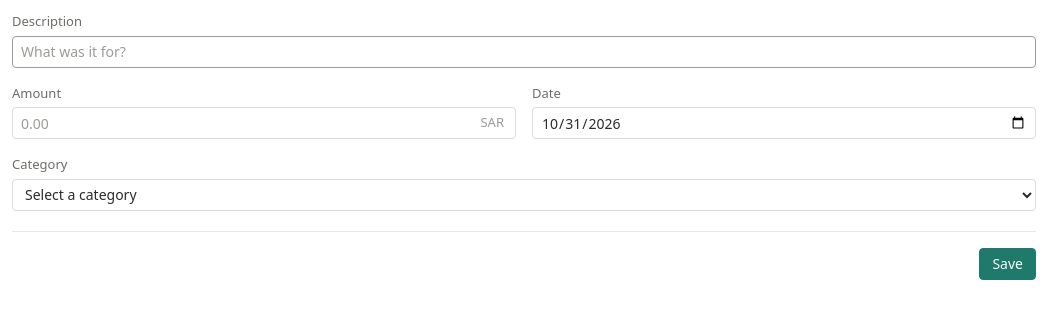
it: ExpenseForm validation › rejects more than two decimals
Select "Food" in the dropdown labelled "Category" at (524,194), box x1=12 y1=178 x2=1036 y2=210
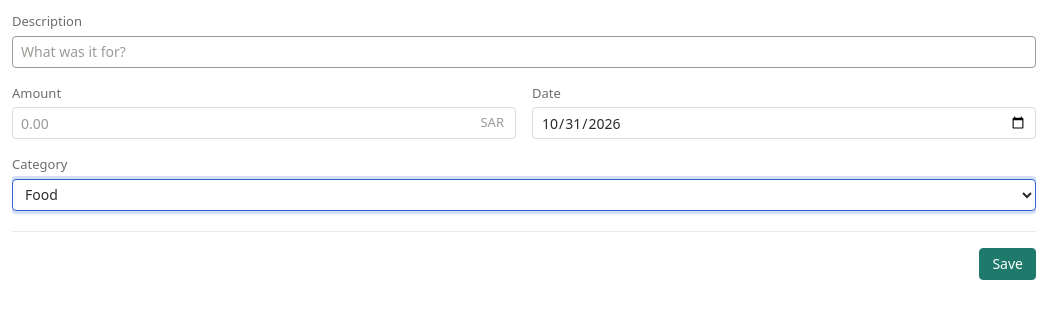
Type "12.50" into the number field labelled "Amount".
click(264, 123); type("12.50")  # box x1=12 y1=107 x2=516 y2=139
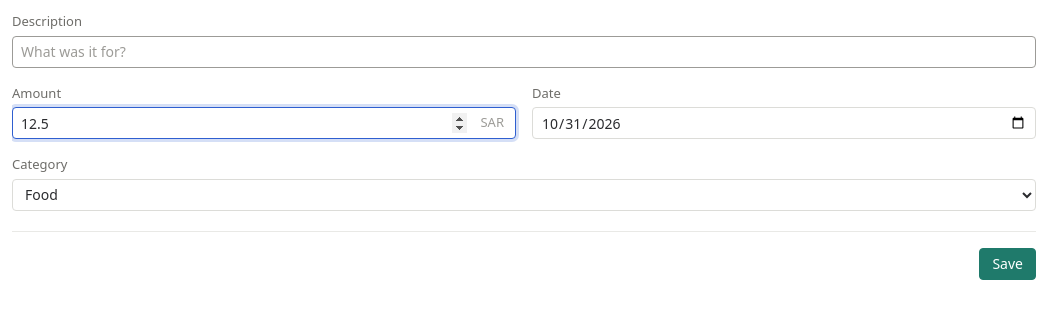
Type "  Lunch  " into the field labelled "Description".
click(524, 52); type("  Lunch  ")  # box x1=12 y1=36 x2=1036 y2=68
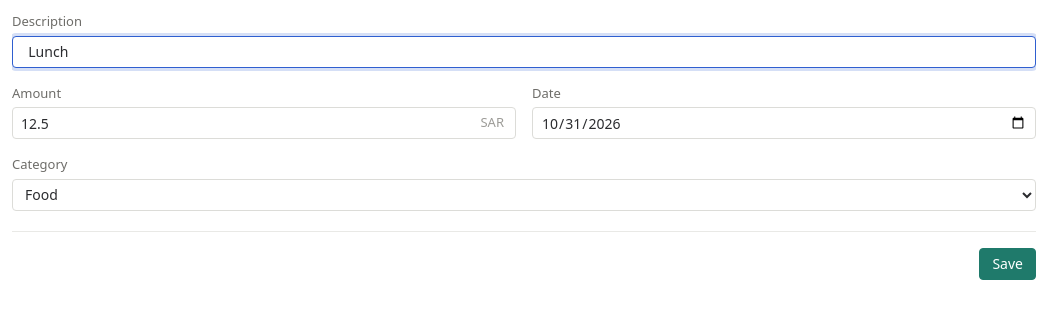
Type "2026-10-01" into the date field labelled "Date".
click(784, 123); type("2026-10-01")  # box x1=532 y1=107 x2=1036 y2=139
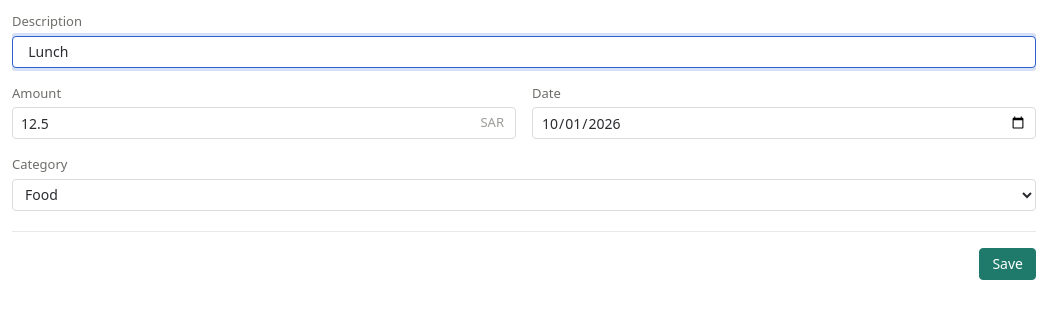
Replace the text in the number field labelled "Amount" with "1.234" at (264,123), box x1=12 y1=107 x2=516 y2=139
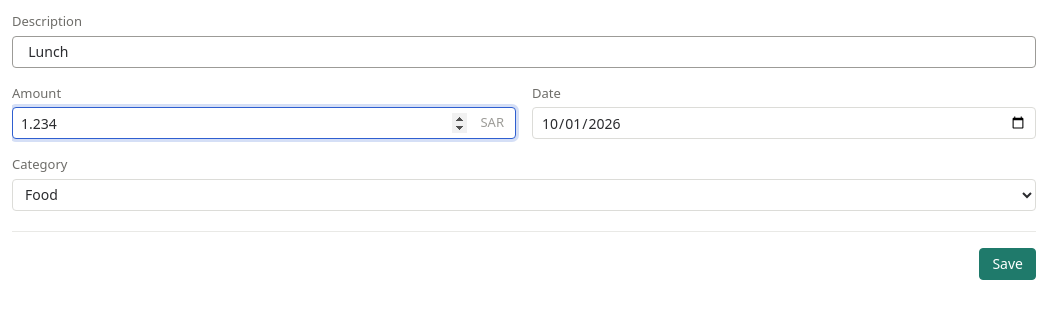
Click the button "Save".
click(1008, 264)  # box x1=979 y1=248 x2=1036 y2=280
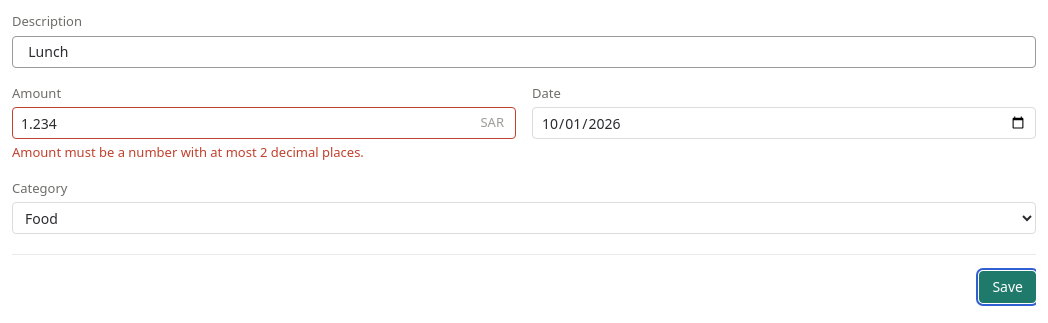
Check: the text "Amount must be a number with at most 2 decimal places." is shown, box x1=12 y1=143 x2=364 y2=161
